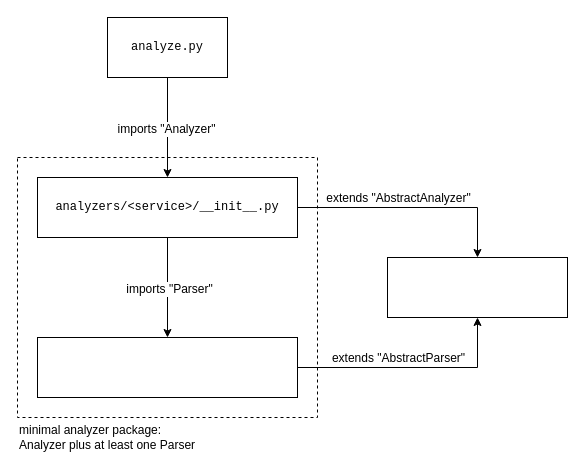
Some shapes in this 585 by 475 pixel diagram are drawn without their labels. The shapes that lost their labels are listed below. From the top down, each one's box as (x1, y1, x2, y2) in pixels, then its label:
(386, 256, 568, 318): analyzers/__init__.py
(36, 336, 298, 398): analyzers/<service>/ ↵ parsers/<tool>.py
